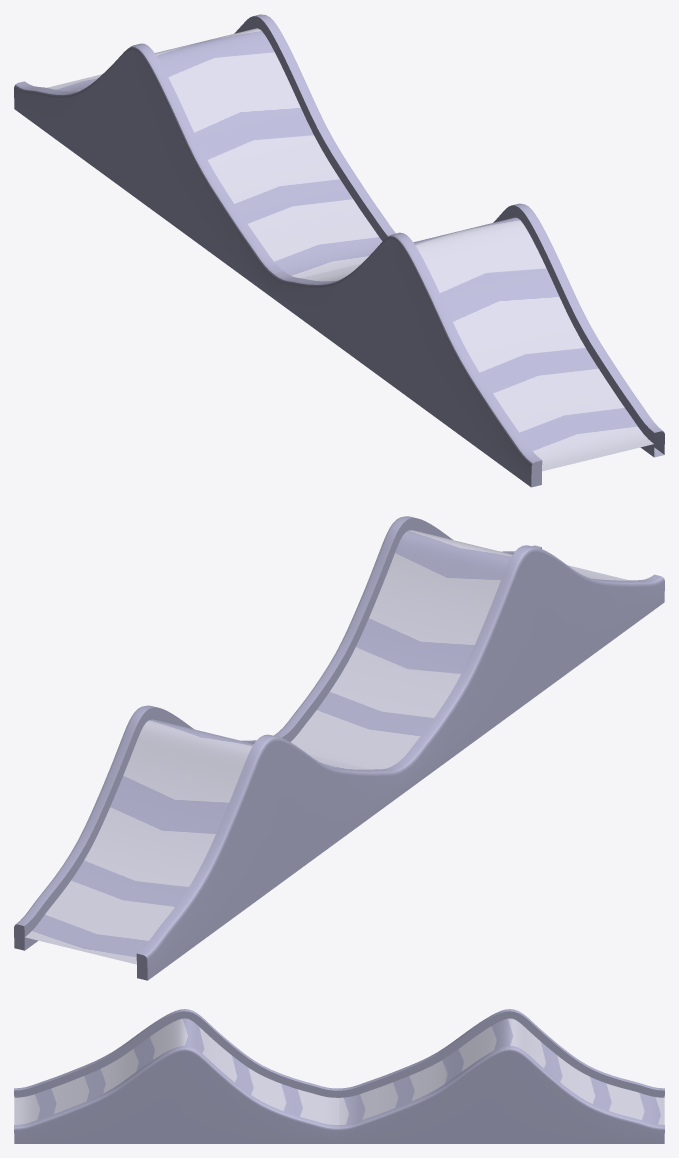
File: platform_hard.fbx
3 renders of one model, top to bottom at view 1: azimuth 30°, elevation 25°; view 2: azimuth 150°, elevation 25°; view 3: azimuth 270°, elevation 25°, orthographic. The views are drawn at different scales.
Visible parts, largest first — view 1: platform_hard; view 2: platform_hard; view 3: platform_hard.
Part boxes in pixels (x1,y1,x2,y2): platform_hard: [14, 14, 664, 487]; platform_hard: [14, 516, 664, 980]; platform_hard: [14, 1009, 664, 1143].
Size of the model in its own units: 6872 by 7438 by 46201.
Materials: 1 (1 with a texture image).
